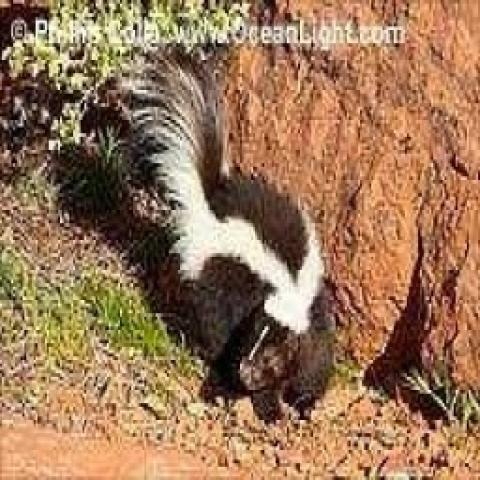small_animal: (70, 38, 342, 426)
